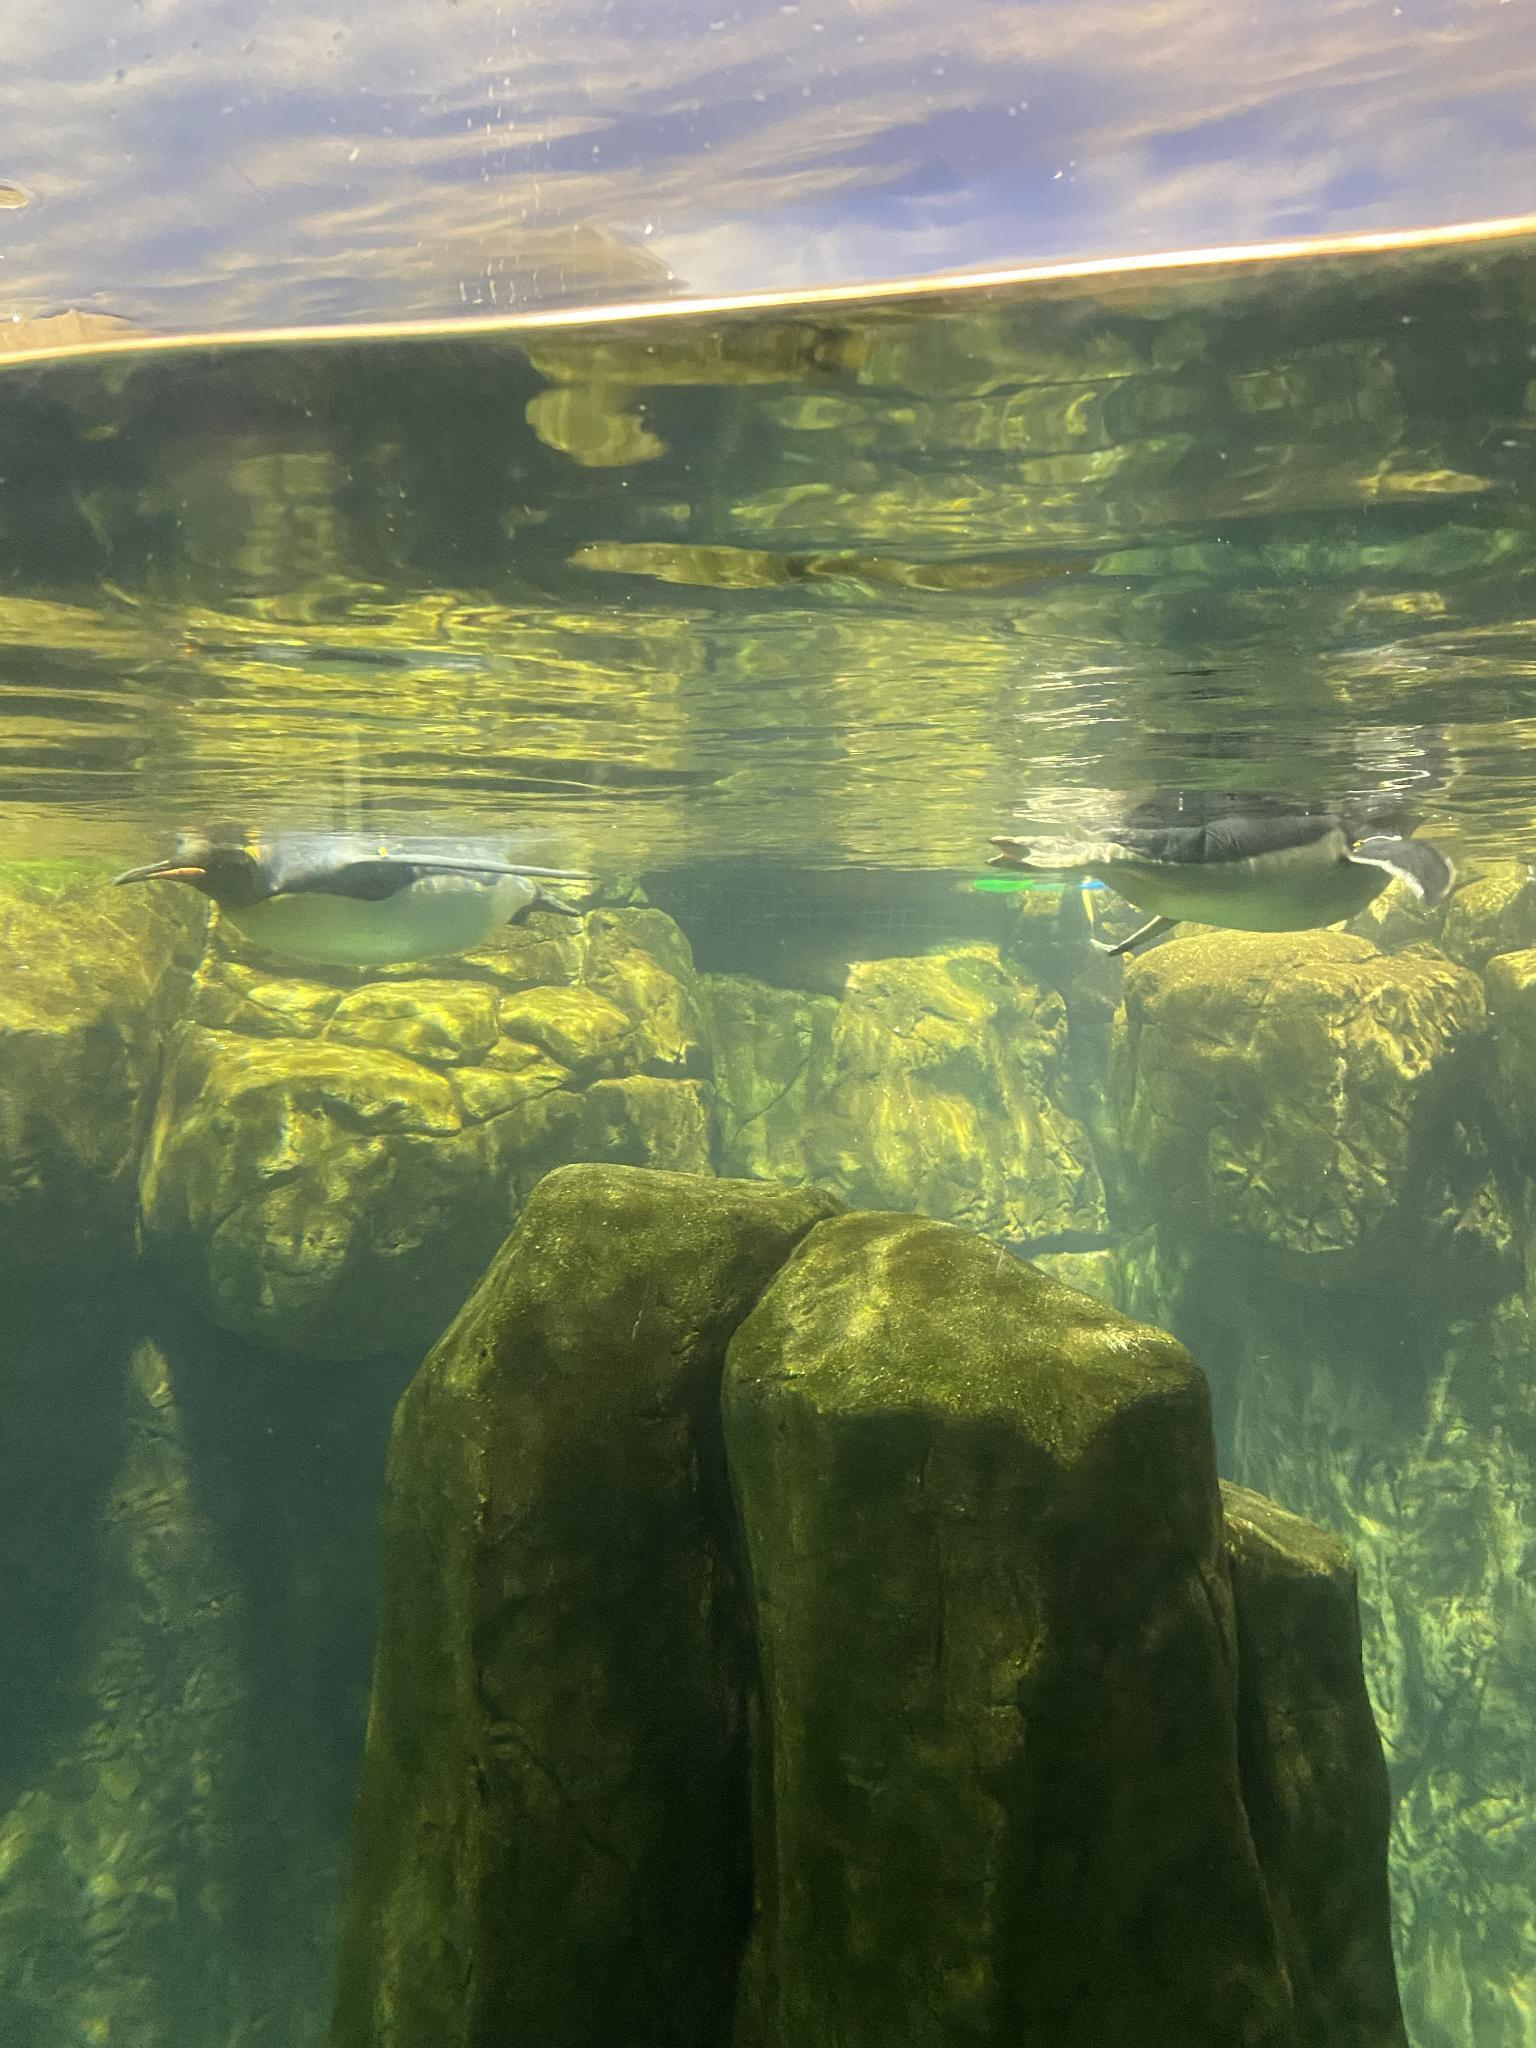starfish: (983, 803, 1450, 959), (111, 835, 582, 966)
